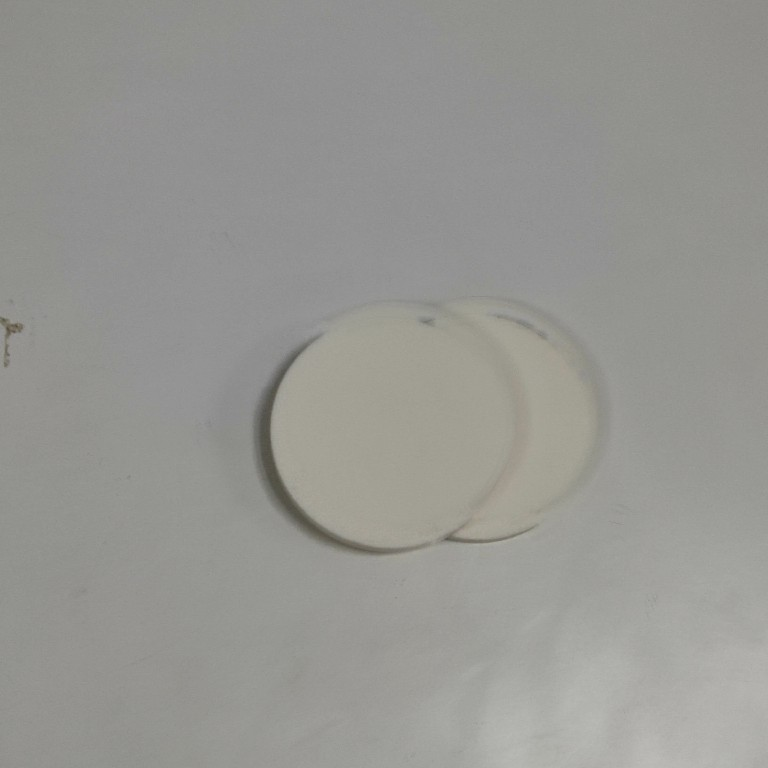ceramics: (252, 292, 607, 561)
